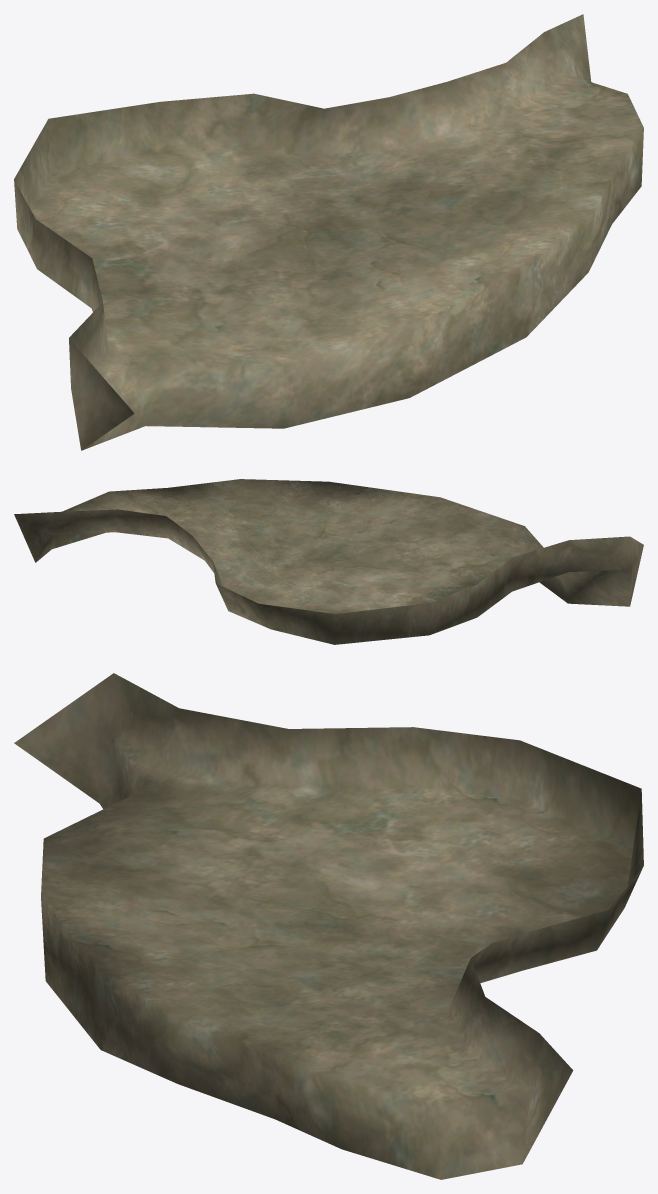
The model's file is EKH_CAVERNS_PS_CA_FLOOR_200.fbx.
3 renders of one model, top to bottom at view 1: azimuth 30°, elevation 25°; view 2: azimuth 150°, elevation 25°; view 3: azimuth 270°, elevation 25°, orthographic. The views are drawn at different scales.
Parts seen in each view (by area): view 1: EKH_CAVERNS_PS_CA_FLOOR_200; view 2: EKH_CAVERNS_PS_CA_FLOOR_200; view 3: EKH_CAVERNS_PS_CA_FLOOR_200.
Part boxes in pixels (bbox=[...]): EKH_CAVERNS_PS_CA_FLOOR_200: bbox=[14, 14, 643, 450]; EKH_CAVERNS_PS_CA_FLOOR_200: bbox=[14, 479, 643, 644]; EKH_CAVERNS_PS_CA_FLOOR_200: bbox=[14, 673, 643, 1179].
Size of the model in its own units: 81816 by 14124 by 54035.
Materials: 1 (1 with a texture image).
